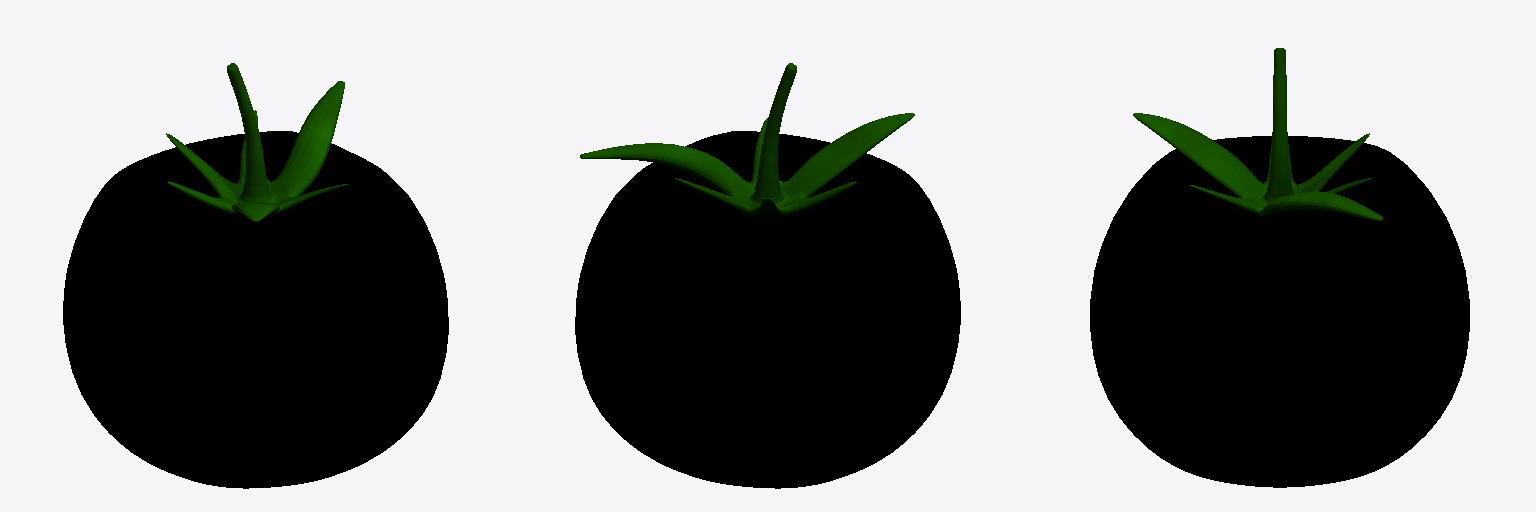
3 views of the same model, side by side, from view 1: azimuth 30°, elevation 25°; view 2: azimuth 150°, elevation 25°; view 3: azimuth 270°, elevation 25° (orthographic).
Parts seen in each view (by area): view 1: Tomato:Mesh; view 2: Tomato:Mesh; view 3: Tomato:Mesh.
Part boxes in pixels (x1,y1,x2,y2): Tomato:Mesh: (63, 63, 448, 488); Tomato:Mesh: (575, 63, 960, 488); Tomato:Mesh: (1090, 48, 1469, 487).
Size of the model in its own units: 3.44 by 3.93 by 3.44.
2 materials, 1 textured.